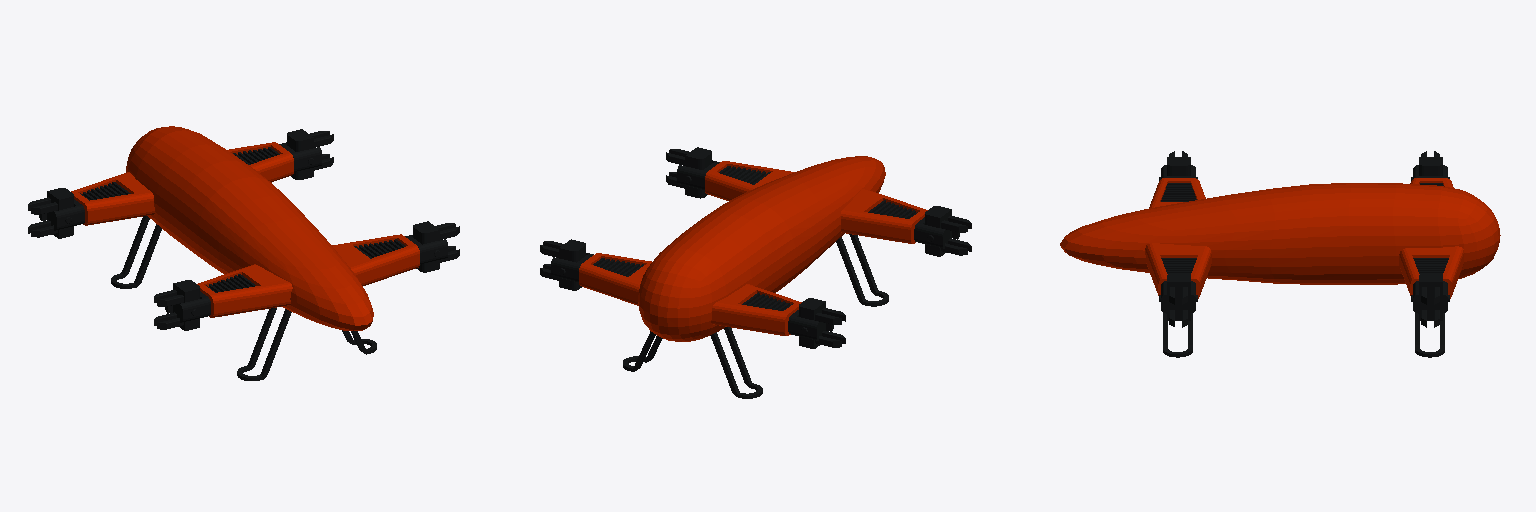
Rendered from aerial-drone.obj.
3 renders of one model, left to right at view 1: azimuth 30°, elevation 25°; view 2: azimuth 150°, elevation 25°; view 3: azimuth 270°, elevation 25°, orthographic.
Visible parts, largest first — view 1: Fuselage, Wing, Legs; view 2: Fuselage, Wing, Legs; view 3: Fuselage, Wing, Legs.
Boxes of the visible parts, x1,y1,x2,y2 form: Fuselage: [71, 126, 419, 330]; Wing: [28, 129, 459, 330]; Legs: [111, 216, 376, 380]; Fuselage: [579, 156, 927, 341]; Wing: [540, 147, 971, 348]; Legs: [623, 234, 888, 398]; Fuselage: [1060, 178, 1500, 298]; Wing: [1159, 151, 1449, 327]; Legs: [1163, 313, 1444, 357].
Bounding box in the file's own units: 0.3593 × 0.1549 × 0.4536.